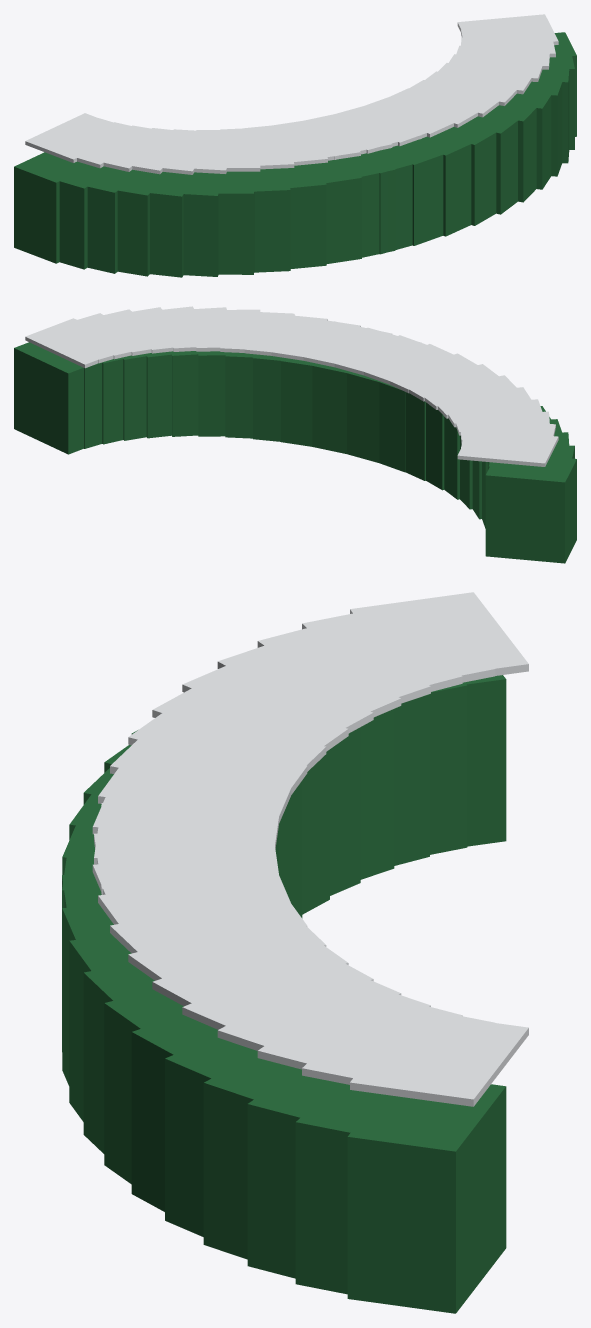
Rendered from foro-sol.glb.
The picture shows the model from 3 angles, top to bottom: view 1: azimuth 30°, elevation 25°; view 2: azimuth 150°, elevation 25°; view 3: azimuth 270°, elevation 25°; orthographic projection. The views are drawn at different scales.
Visible parts, largest first — view 1: foro-sol; view 2: foro-sol; view 3: foro-sol.
Boxes of the visible parts, bbox=[...] form: foro-sol: bbox=[14, 14, 576, 277]; foro-sol: bbox=[14, 306, 576, 563]; foro-sol: bbox=[62, 592, 528, 1313].
Bounding box in the file's own units: 156 × 27 × 57.41.
